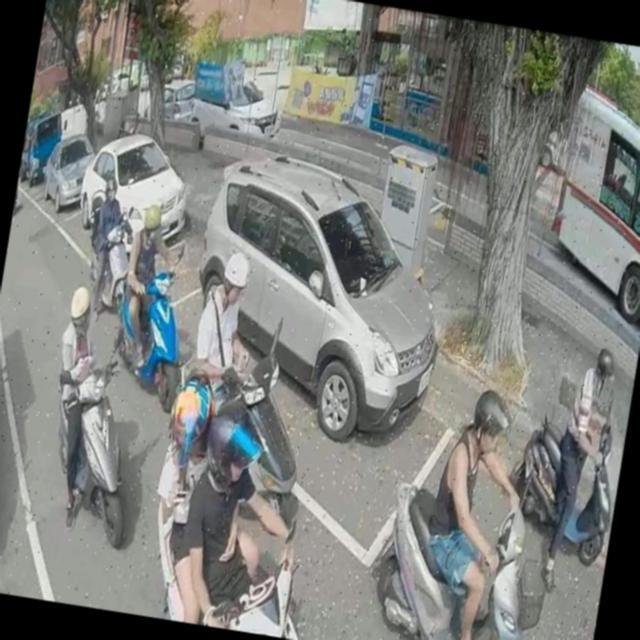person: (171, 386, 334, 640), (144, 372, 286, 633), (410, 376, 542, 640), (536, 344, 632, 582), (36, 276, 122, 533), (188, 246, 266, 417), (115, 190, 187, 374), (74, 177, 132, 316), (17, 160, 23, 183)
